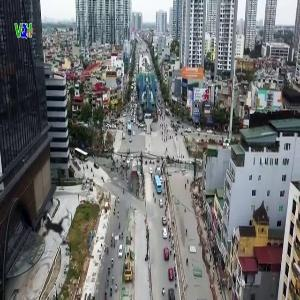drone: (17, 186, 100, 269)
